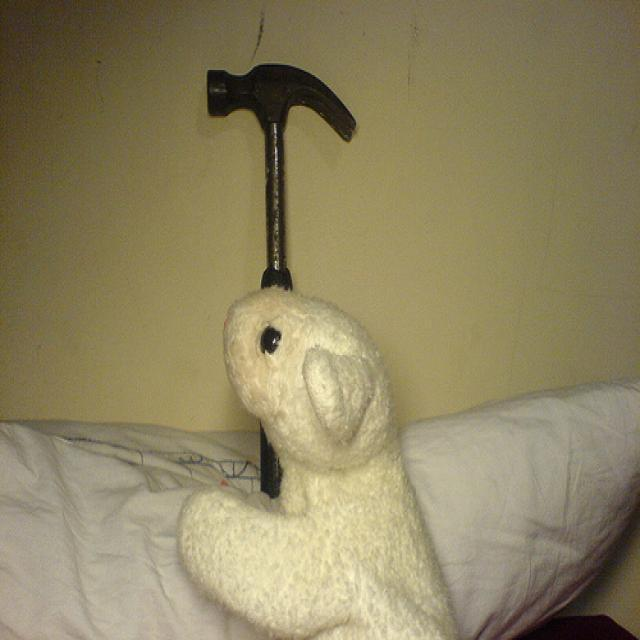hammer: (196, 39, 352, 536)
